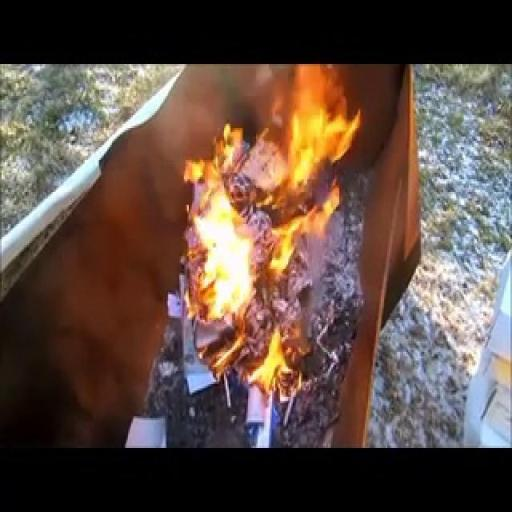smoke: (174, 72, 372, 402)
